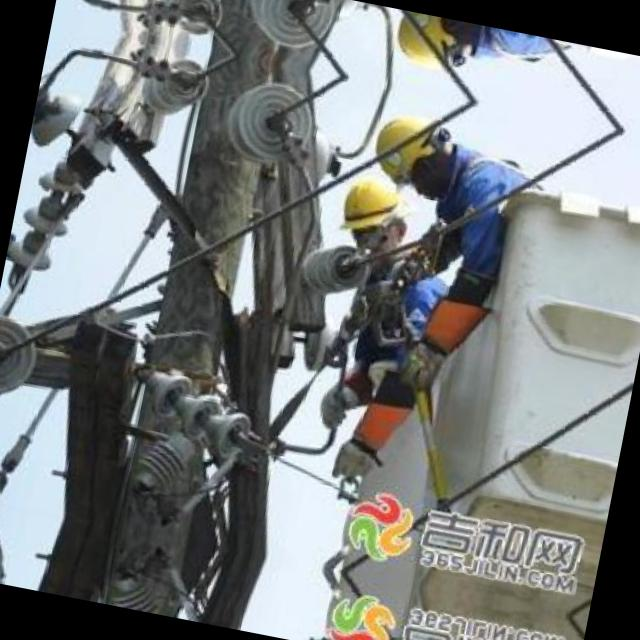helmet: (332, 162, 411, 256), (360, 104, 448, 184), (381, 8, 468, 77)
